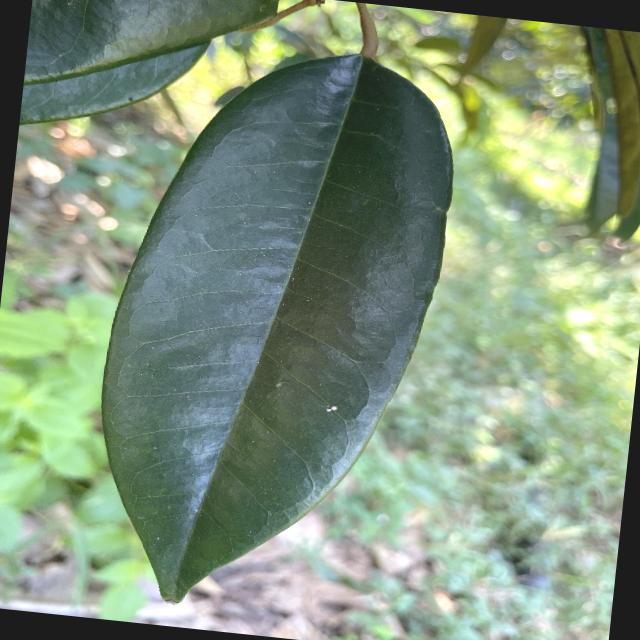No Disease: (68, 16, 474, 634)
